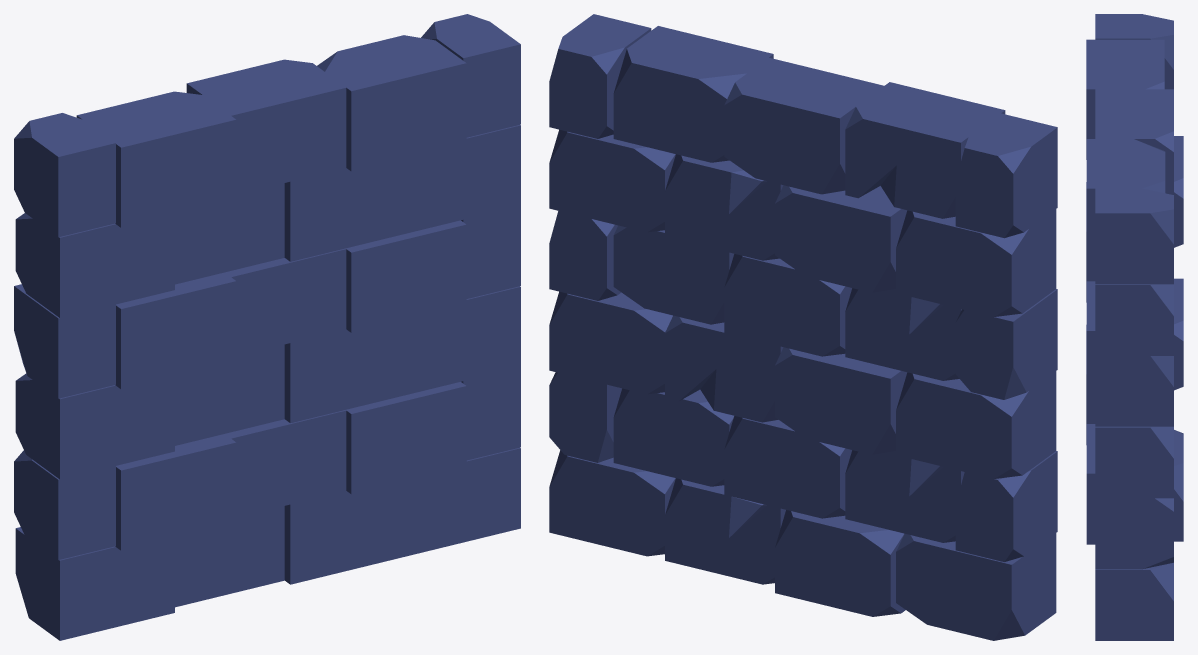
File: Wall.fbx
3 renders of one model, left to right at view 1: azimuth 30°, elevation 25°; view 2: azimuth 150°, elevation 25°; view 3: azimuth 270°, elevation 25°, orthographic. The views are drawn at different scales.
Parts seen in each view (by area): view 1: Wall; view 2: Wall; view 3: Wall.
Boxes of the visible parts, x1,y1,x2,y2 form: Wall: (14, 14, 520, 640); Wall: (549, 14, 1057, 640); Wall: (1086, 14, 1183, 640).
Bounding box in the file's own units: 3.01 × 3.01 × 0.6222.
